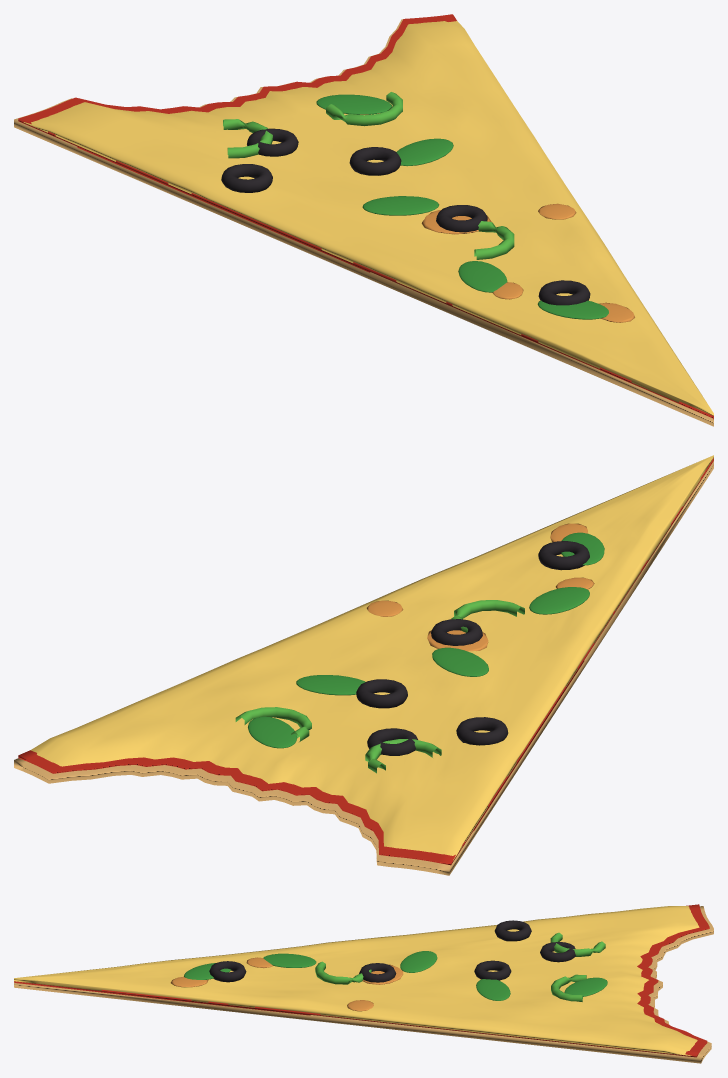
Rendered from EatsaPizzaSlice1.obj.
3 renders of one model, top to bottom at view 1: azimuth 30°, elevation 25°; view 2: azimuth 150°, elevation 25°; view 3: azimuth 270°, elevation 25°, orthographic. The views are drawn at different scales.
Parts seen in each view (by area): view 1: Cheese, Dough, Olives, Basil, Sauce, Peppers, Toasty; view 2: Cheese, Dough, Olives, Basil, Sauce, Peppers, Toasty; view 3: Cheese, Dough, Sauce, Olives, Basil, Peppers, Toasty.
Boxes of the visible parts, box(x1,y1,x2,y2) form: Cheese: box(23, 21, 713, 415); Dough: box(14, 19, 713, 426); Olives: box(221, 128, 590, 305); Basil: box(316, 94, 608, 319); Sauce: box(18, 14, 713, 419); Peppers: box(223, 92, 514, 259); Toasty: box(421, 203, 634, 322); Cheese: box(30, 455, 713, 860); Dough: box(14, 461, 713, 875); Olives: box(356, 541, 589, 755); Basil: box(248, 532, 604, 748); Sauce: box(18, 458, 713, 865); Peppers: box(235, 600, 524, 773); Toasty: box(366, 523, 594, 651); Cheese: box(14, 906, 699, 1055); Dough: box(14, 906, 713, 1063); Sauce: box(14, 904, 709, 1057); Olives: box(209, 920, 575, 982); Basil: box(184, 951, 607, 1000); Peppers: box(315, 932, 605, 1001); Toasty: box(170, 957, 403, 1011).
Bounding box in the file's own units: 8.08 × 0.515 × 15.72.
